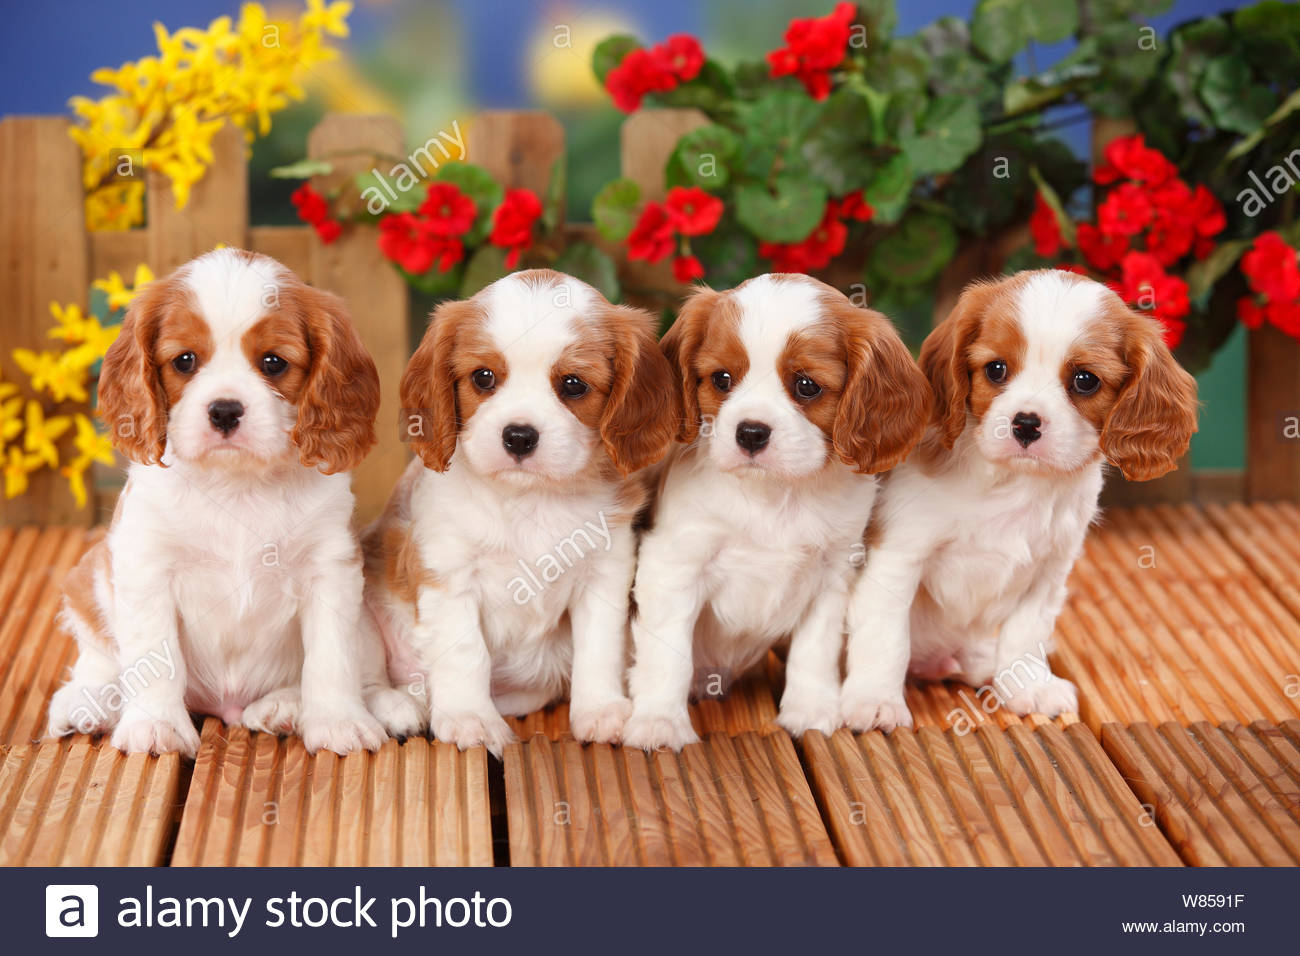dog: (79, 235, 388, 768), (904, 256, 1235, 727), (395, 242, 669, 752), (666, 256, 904, 741)
